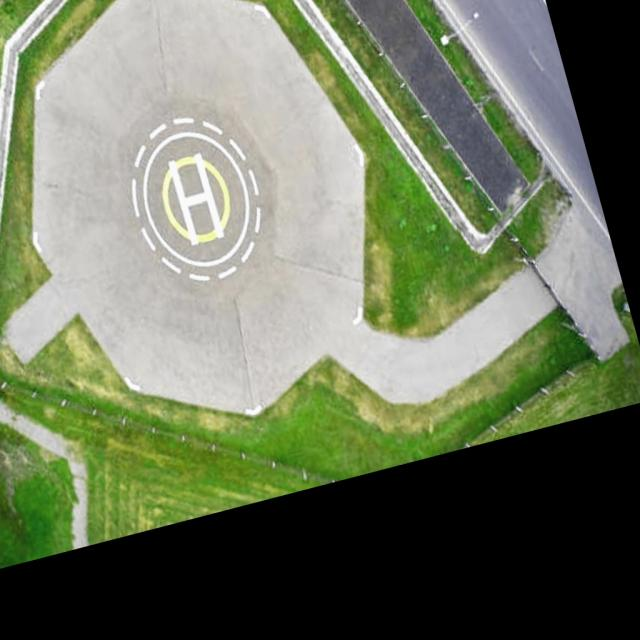helipad: (158, 150, 232, 250)
